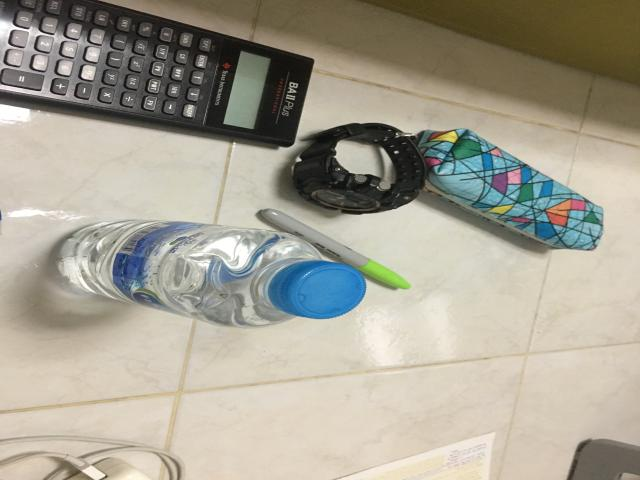Pen: (260, 209, 410, 289)
Watch: (293, 124, 427, 215)
bottle: (58, 220, 365, 328)
paper: (337, 432, 495, 480)
wire: (0, 435, 185, 480)
